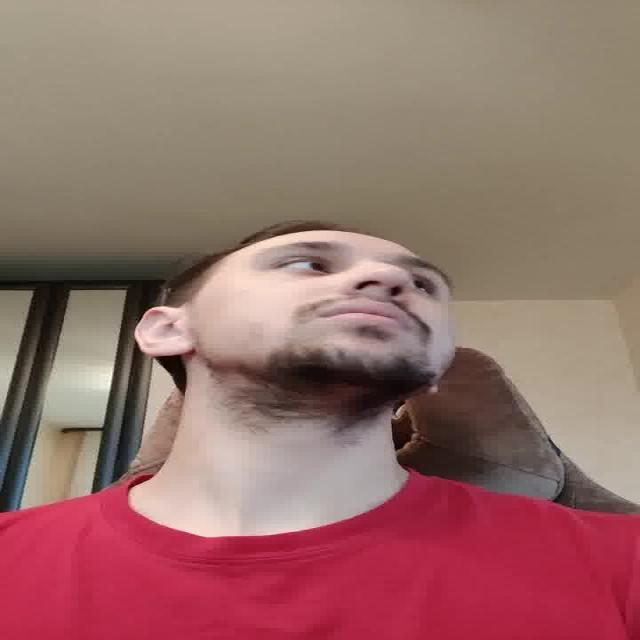earlobe: (154, 336, 194, 357)
eye: (276, 256, 331, 274), (414, 279, 436, 297)
nose: (348, 285, 409, 306)
wholeear: (133, 306, 194, 357)
